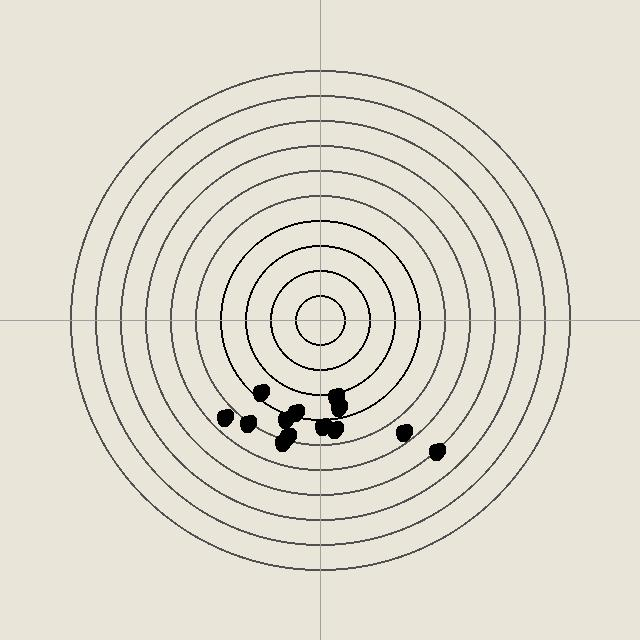horizontal_scatter: (214, 407, 234, 427), (324, 419, 344, 439), (250, 382, 270, 402), (312, 416, 332, 436), (277, 426, 297, 446), (272, 432, 292, 452), (393, 422, 413, 442), (325, 386, 345, 406), (426, 441, 446, 461), (275, 409, 295, 429), (237, 413, 257, 433), (328, 397, 348, 417), (285, 402, 305, 422)
